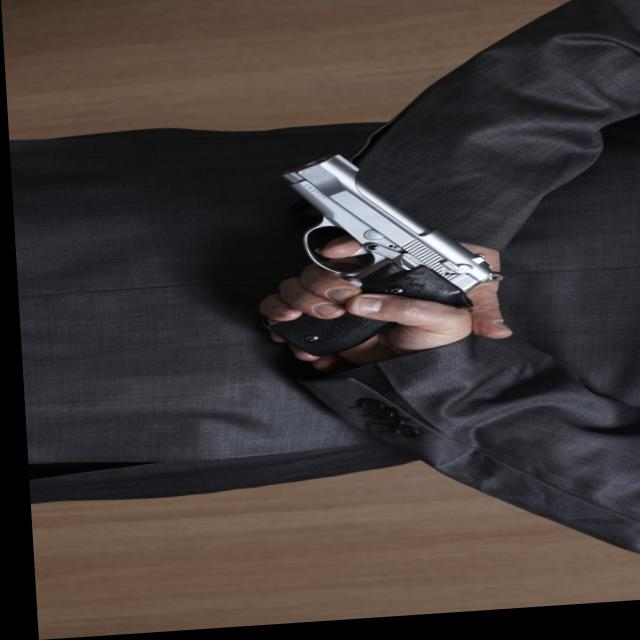handgun: (249, 144, 487, 377)
